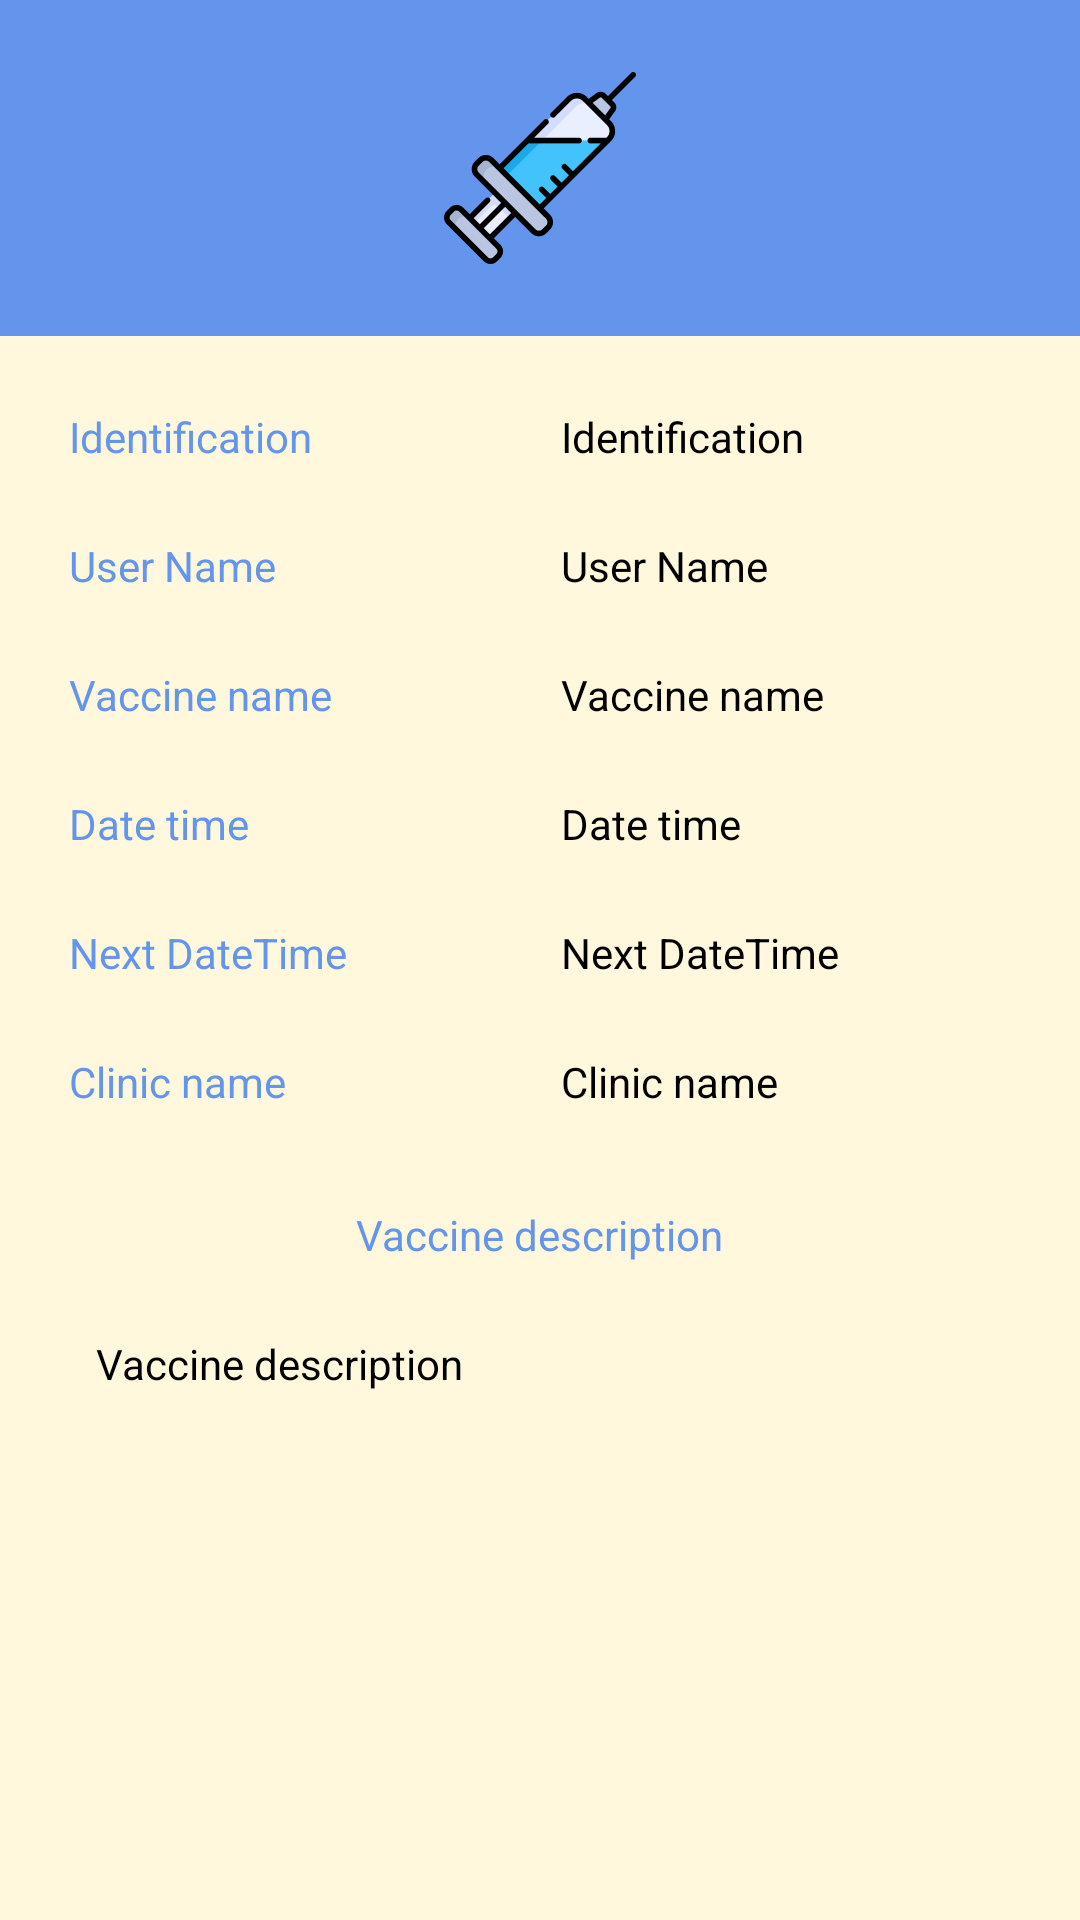

Icons on this 1080×1920 Android screen, each with its box as (x1, y1, x2, y2):
vaccine: (444, 72, 636, 264)
